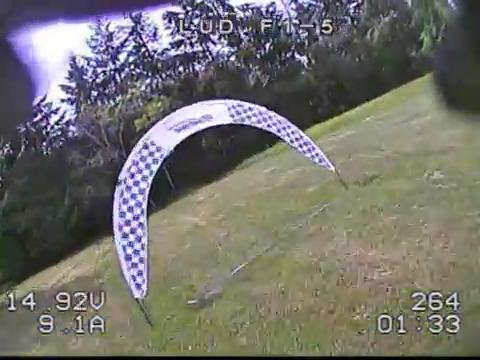gate: (111, 98, 336, 298)
